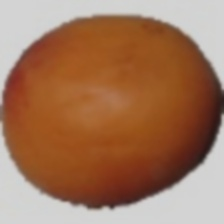apricot: (31, 13, 182, 178)
